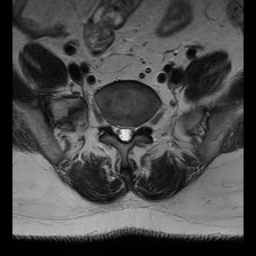CCS_stenosis: (121, 119, 128, 148)
LFS_severe_stenosis: (135, 114, 142, 137)
LLS_normal: (128, 120, 135, 144)
RFS_severe_stenosis: (106, 113, 113, 136)
RLS_normal: (113, 120, 121, 144)
